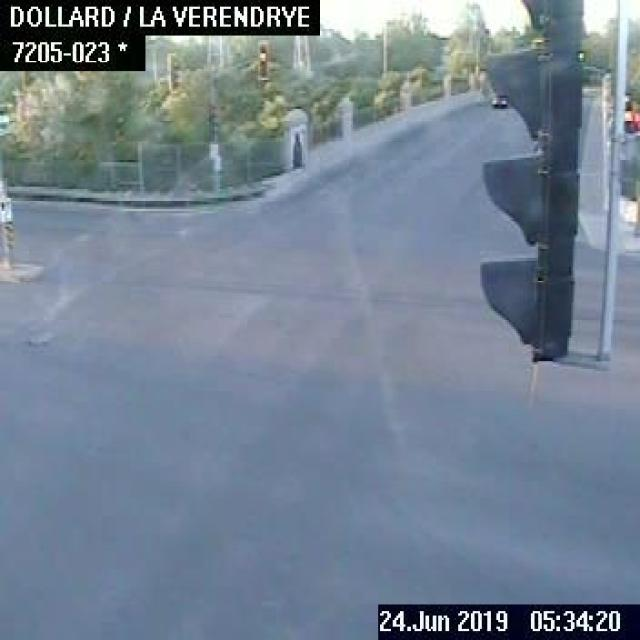vehicle: (492, 93, 507, 106)
